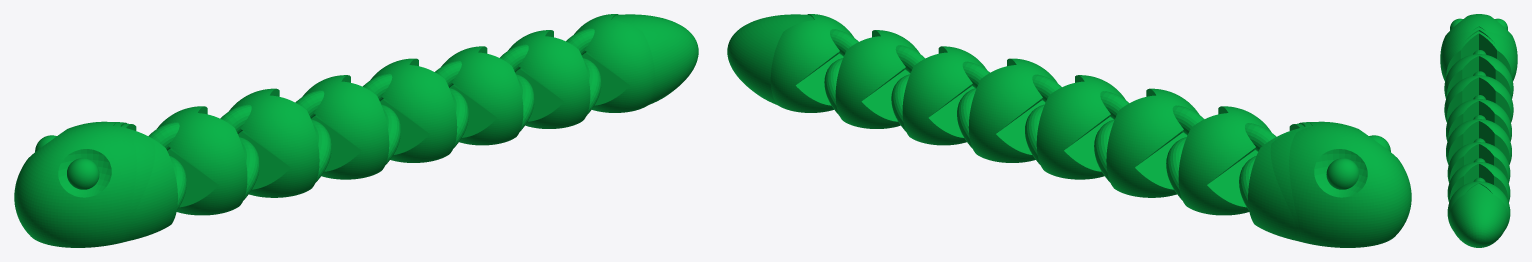
File: snakey.glb
3 renders of one model, left to right at view 1: azimuth 30°, elevation 25°; view 2: azimuth 150°, elevation 25°; view 3: azimuth 270°, elevation 25°, orthographic. The views are drawn at different scales.
Visible parts, largest first — view 1: Copy of Tremendous Rottis-Gogo.stl_fil1; view 2: Copy of Tremendous Rottis-Gogo.stl_fil1; view 3: Copy of Tremendous Rottis-Gogo.stl_fil1.
Boxes of the visible parts, x1,y1,x2,y2 form: Copy of Tremendous Rottis-Gogo.stl_fil1: (14,14,698,247); Copy of Tremendous Rottis-Gogo.stl_fil1: (727,14,1411,247); Copy of Tremendous Rottis-Gogo.stl_fil1: (1440,14,1517,247).
Bounding box in the file's own units: 0.0623 × 0.00836 × 0.0102.
